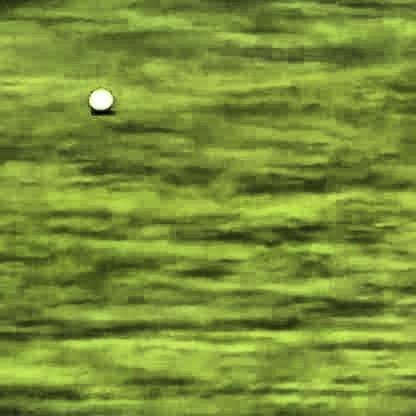golfball: (86, 87, 111, 111)
